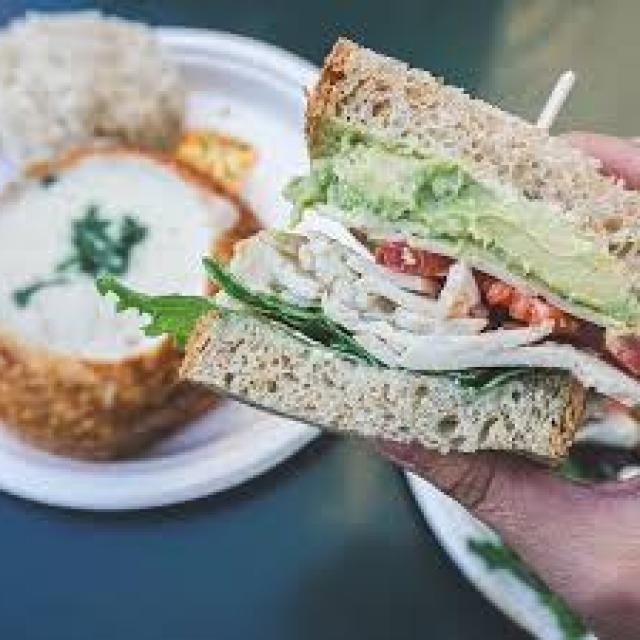Sandwich: (181, 23, 638, 462)
White Rice: (6, 5, 188, 156)
